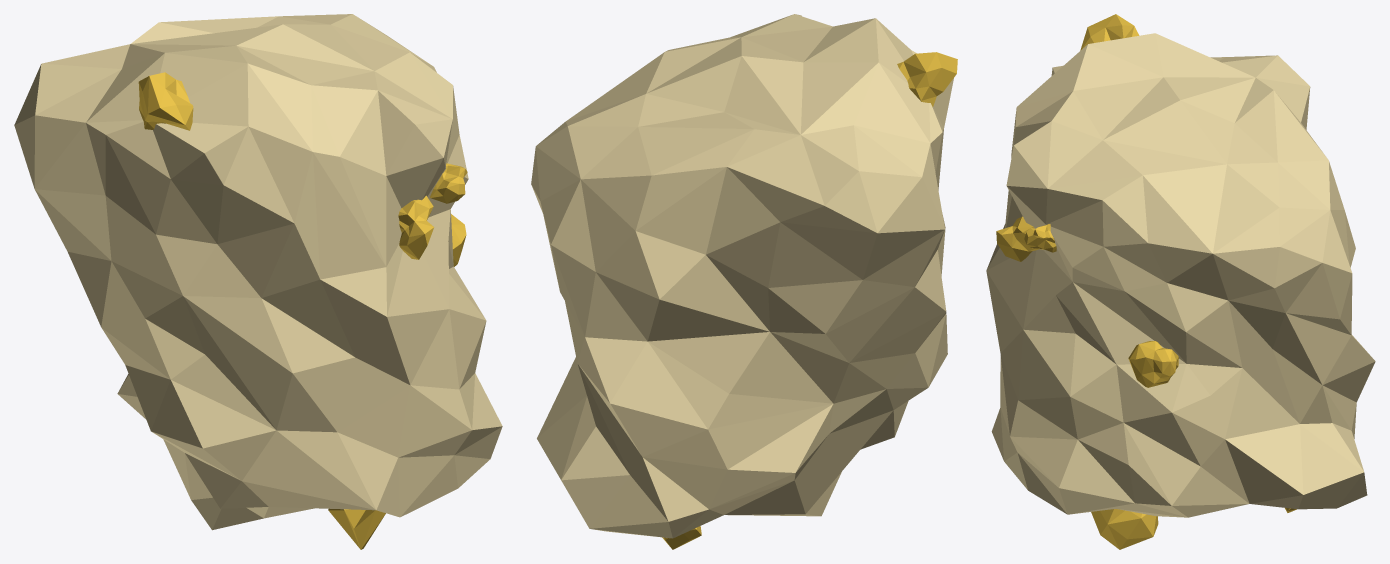
File: MetalOre (6).fbx
3 renders of one model, left to right at view 1: azimuth 30°, elevation 25°; view 2: azimuth 150°, elevation 25°; view 3: azimuth 270°, elevation 25°, orthographic. The views are drawn at different scales.
Visible parts, largest first — view 1: Asteroid361; view 2: Asteroid361; view 3: Asteroid361.
Boxes of the visible parts, box(x1,y1,x2,y2) form: Asteroid361: box(14, 14, 502, 549); Asteroid361: box(531, 14, 957, 549); Asteroid361: box(986, 14, 1375, 549).
Size of the model in its own units: 524 by 658 by 516.
